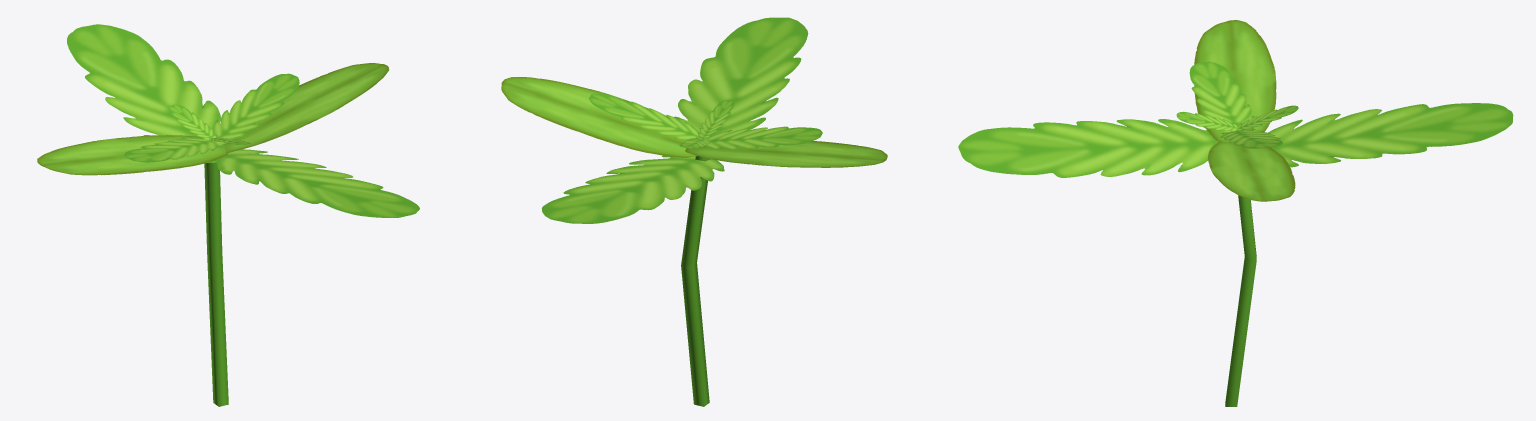
File: CannabisStage01_04.fbx
3 views of the same model, side by side, from view 1: azimuth 30°, elevation 25°; view 2: azimuth 150°, elevation 25°; view 3: azimuth 270°, elevation 25° (orthographic). The views are drawn at different scales.
Visible parts, largest first — view 1: CannabisStage01_04_LOD0; view 2: CannabisStage01_04_LOD0; view 3: CannabisStage01_04_LOD0.
Part boxes in pixels (x1,y1,x2,y2): CannabisStage01_04_LOD0: (37, 24, 419, 406); CannabisStage01_04_LOD0: (501, 17, 887, 406); CannabisStage01_04_LOD0: (958, 20, 1513, 406).
Size of what is drawn, in the model's own units: 22.47 by 16.79 by 29.
